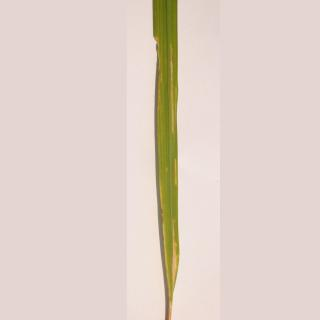Hawar-Daun: (154, 208, 188, 307), (166, 40, 188, 136), (166, 154, 187, 197)
